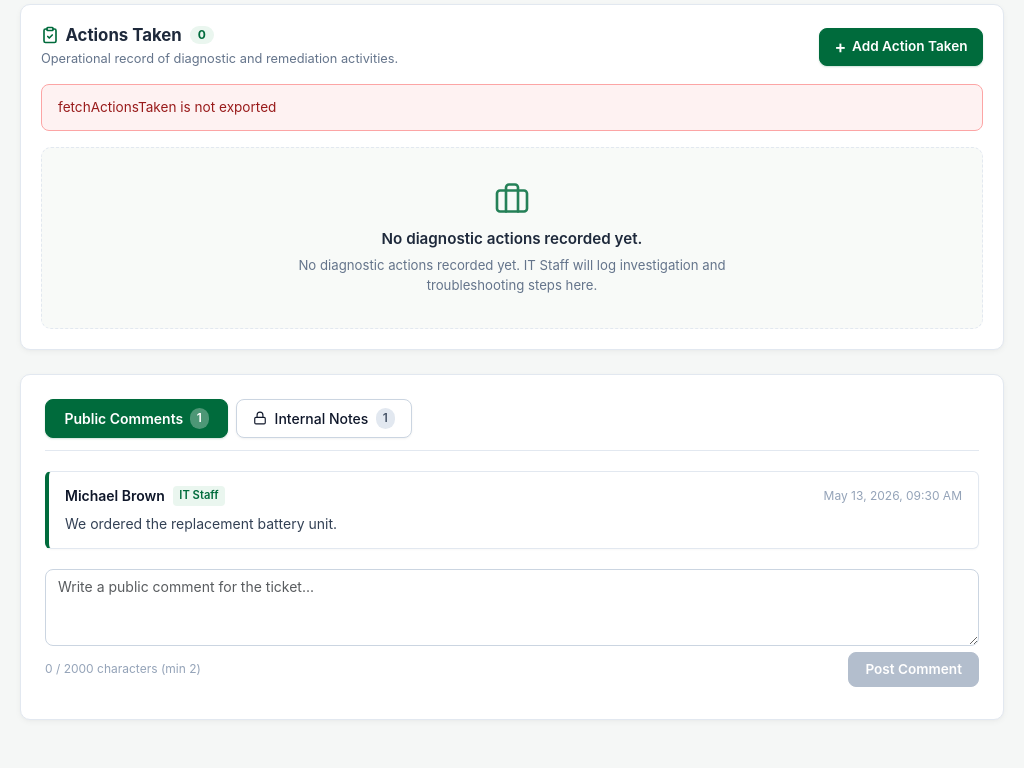
it: StaffTicketDetail Component (StaffTicketDetail.test.tsx) › UI-07: Public Comments & Internal Notes for Staff › switches to Internal Notes tab and displays confidential notes
(page scrolled)
Click the button with test id "tab-internal-notes": [324, 418] box x1=236 y1=398 x2=412 y2=438
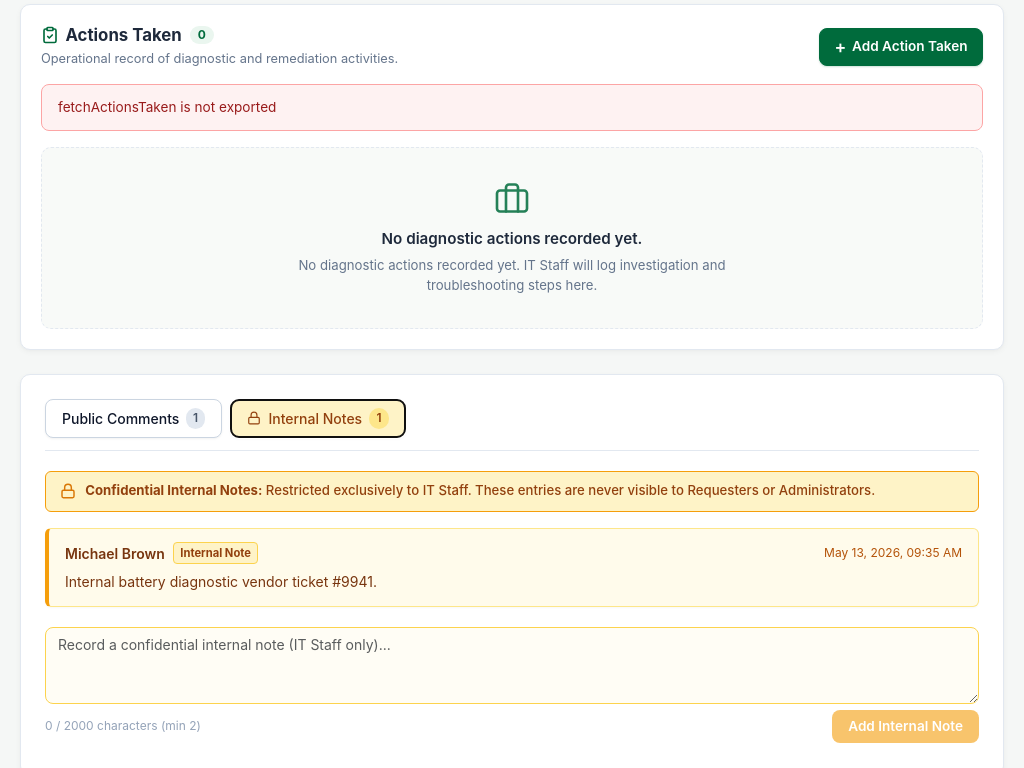
expect the element with test id "internal-notes-panel" is shown: met, box x1=45 y1=471 x2=979 y2=743
expect the text "Confidential Internal Notes:" is shown: met, box x1=85 y1=482 x2=262 y2=498
expect the text "Internal battery diagnostic vendor ticket #9941." is shown: met, box x1=65 y1=573 x2=377 y2=590
